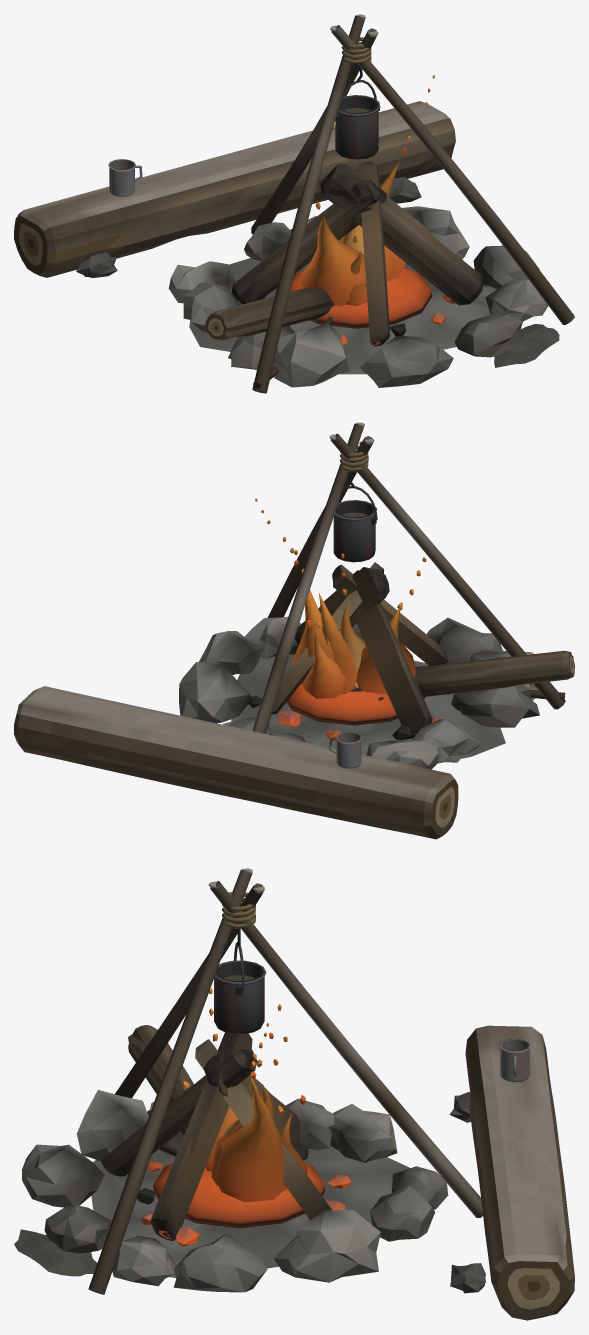
The model's file is campfire.glb.
The picture shows the model from 3 angles, top to bottom: view 1: azimuth 30°, elevation 25°; view 2: azimuth 150°, elevation 25°; view 3: azimuth 270°, elevation 25°; orthographic projection. The views are drawn at different scales.
Visible parts, largest first — view 1: campfire; view 2: campfire; view 3: campfire.
Boxes of the visible parts, left/top/right/bottom form: campfire: left=14, top=14, right=574, bottom=393; campfire: left=14, top=422, right=574, bottom=839; campfire: left=14, top=868, right=574, bottom=1320.
Bounding box in the file's own units: 1.33 × 0.8769 × 1.33.
